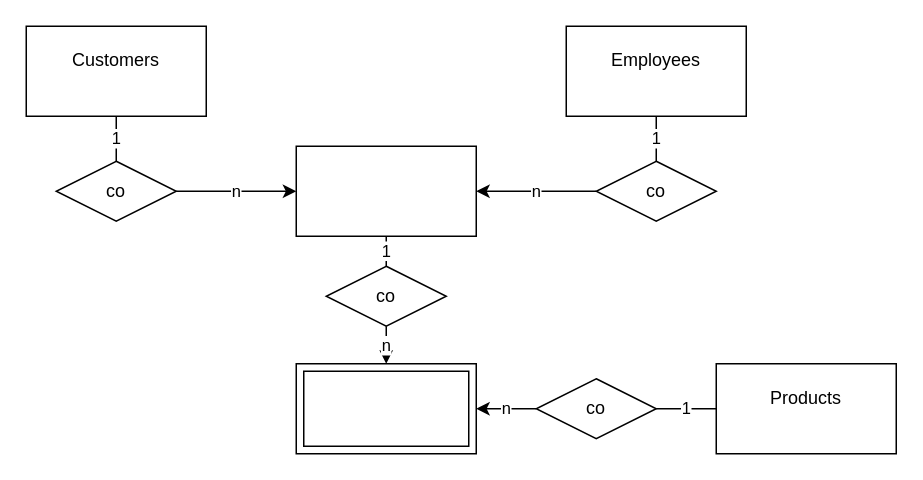
The diagram is 923 pixels wide and 480 high, and some of its shapes have lost their labels. The centre of each missing label's shape, as x and y in pixels:
OrderDetails: point 385,408
Orders: point 385,190
